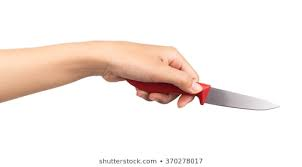knife: (118, 66, 286, 113)
